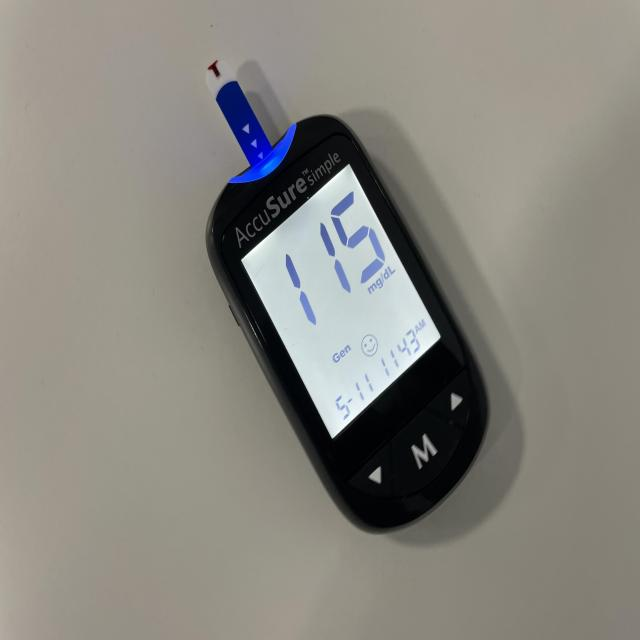gluco: (207, 79, 492, 537)
